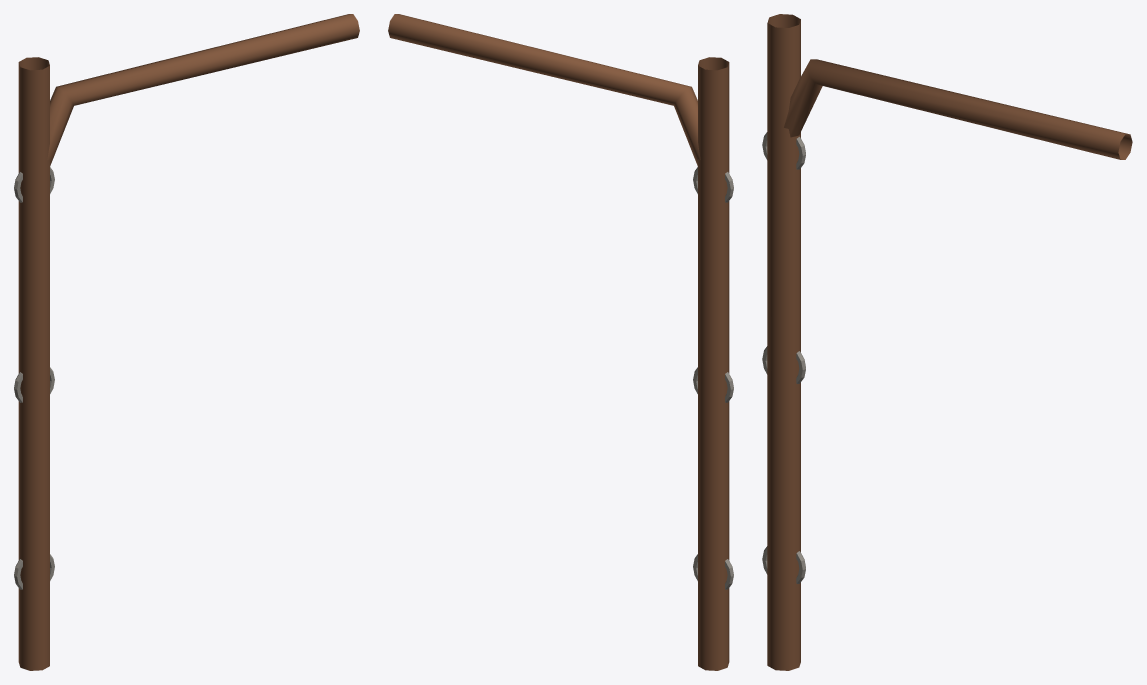
File: basement-pipes.glb
3 views of the same model, side by side, from view 1: azimuth 30°, elevation 25°; view 2: azimuth 150°, elevation 25°; view 3: azimuth 330°, elevation 25° (orthographic). The views are drawn at different scales.
Parts seen in each view (by area): view 1: SM_lonely_basement_pipes_Metal_OxidizedCopper, SM_lonely_basement_pipes_Metal_DullChrome; view 2: SM_lonely_basement_pipes_Metal_OxidizedCopper, SM_lonely_basement_pipes_Metal_DullChrome; view 3: SM_lonely_basement_pipes_Metal_OxidizedCopper, SM_lonely_basement_pipes_Metal_DullChrome.
Part boxes in pixels (left/top/right/bottom): SM_lonely_basement_pipes_Metal_OxidizedCopper: left=18, top=14, right=359, bottom=670; SM_lonely_basement_pipes_Metal_DullChrome: left=14, top=167, right=54, bottom=589; SM_lonely_basement_pipes_Metal_OxidizedCopper: left=388, top=14, right=729, bottom=670; SM_lonely_basement_pipes_Metal_DullChrome: left=693, top=167, right=733, bottom=589; SM_lonely_basement_pipes_Metal_OxidizedCopper: left=767, top=14, right=1132, bottom=670; SM_lonely_basement_pipes_Metal_DullChrome: left=762, top=132, right=805, bottom=583.
Bounding box in the file's own units: 1.33 × 2.25 × 0.11.
